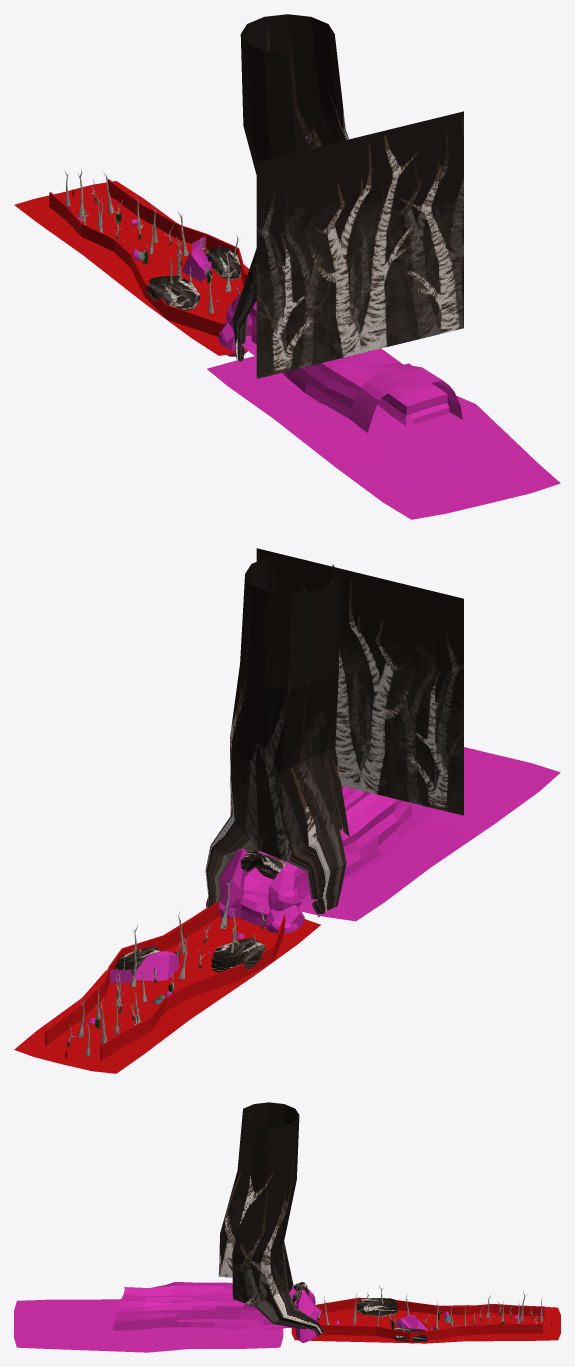
Rendered from map.obj.
The picture shows the model from 3 angles, top to bottom: view 1: azimuth 30°, elevation 25°; view 2: azimuth 150°, elevation 25°; view 3: azimuth 270°, elevation 25°; orthographic projection. The views are drawn at different scales.
Visible parts, largest first — view 1: Plane.003, lvl_floor.001, Cylinder, lvl_floor, Plane.001, limite, Plane.002, limite.001, Sphere.017, Plane, Sphere.018, Sphere.014; view 2: Cylinder, Plane.003, lvl_floor, lvl_floor.001, Plane.001, limite, limite.001, Sphere.017, Plane, Sphere.012, Sphere.010, Sphere.014 (+2 smaller); view 3: Cylinder, lvl_floor.001, Plane.001, lvl_floor, limite.001, limite, Sphere.017, Sphere.012, Plane.002.
Part boxes in pixels (box(x1,y1,x2,y2)): Plane.003: box(256, 111, 463, 378); lvl_floor.001: box(207, 348, 560, 519); Cylinder: box(232, 14, 348, 361); lvl_floor: box(14, 181, 249, 355); Plane.001: box(249, 301, 462, 432); limite: box(49, 192, 224, 336); Plane.002: box(377, 363, 449, 426); limite.001: box(107, 179, 247, 285); Sphere.017: box(147, 275, 199, 310); Plane: box(233, 335, 407, 432); Sphere.018: box(207, 247, 240, 279); Sphere.014: box(183, 246, 211, 281); Cylinder: box(205, 557, 349, 916); Plane.003: box(256, 548, 463, 815); lvl_floor: box(14, 908, 320, 1073); lvl_floor.001: box(207, 747, 560, 921); Plane.001: box(245, 786, 435, 899); limite: box(100, 915, 285, 1060); limite.001: box(45, 901, 220, 1045); Sphere.017: box(211, 938, 265, 972); Plane: box(244, 809, 437, 905); Sphere.012: box(206, 848, 246, 916); Sphere.010: box(268, 866, 301, 911); Sphere.014: box(131, 951, 178, 980); Cylinder: box(218, 1102, 324, 1336); lvl_floor.001: box(14, 1299, 283, 1352); Plane.001: box(113, 1282, 296, 1330); lvl_floor: box(291, 1305, 560, 1343); limite.001: box(320, 1324, 542, 1341); limite: box(315, 1297, 544, 1315); Sphere.017: box(356, 1298, 397, 1316); Sphere.012: box(295, 1290, 316, 1342); Plane.002: box(128, 1313, 256, 1327).
Size of the model in its own units: 55.91 by 86.06 by 199.
7 materials, 4 textured.
